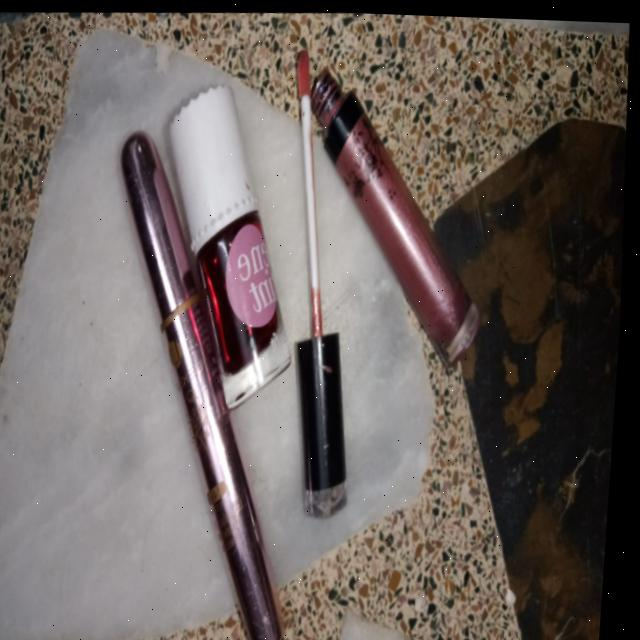Tint: (148, 70, 319, 423)
lip gloss: (252, 8, 532, 524), (254, 9, 350, 287)
mascara: (71, 112, 246, 640)
